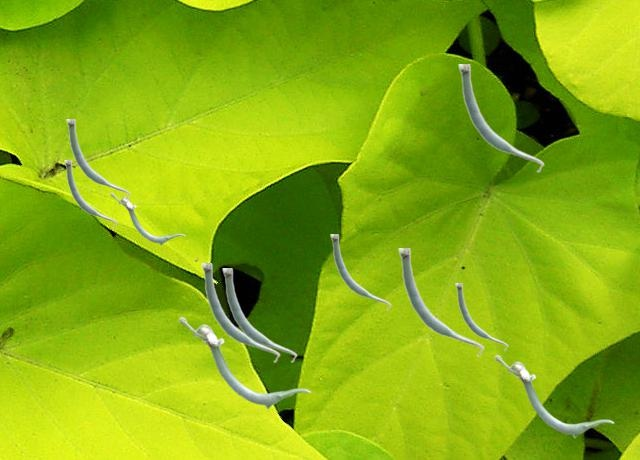french_bean: (178, 316, 310, 408), (494, 354, 613, 437), (398, 248, 483, 356), (458, 64, 543, 172), (201, 263, 279, 362), (222, 268, 296, 362), (66, 119, 129, 199), (330, 234, 390, 310), (110, 192, 184, 244), (455, 283, 507, 350), (64, 160, 116, 227)
